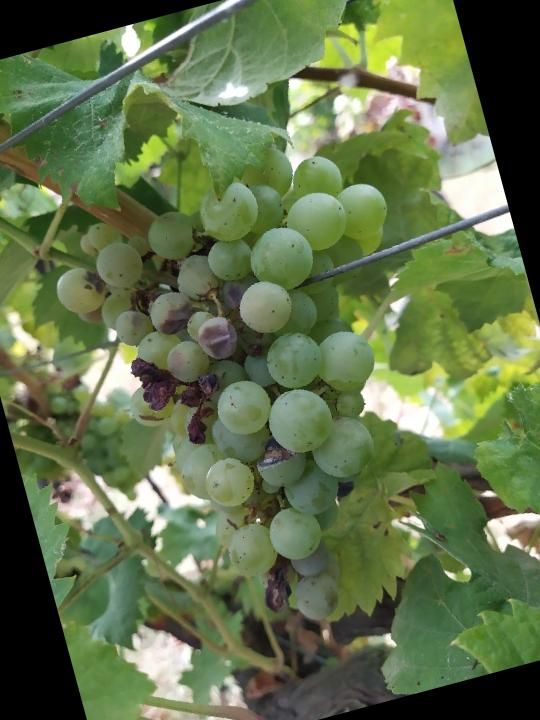grape: (32, 120, 490, 667)
